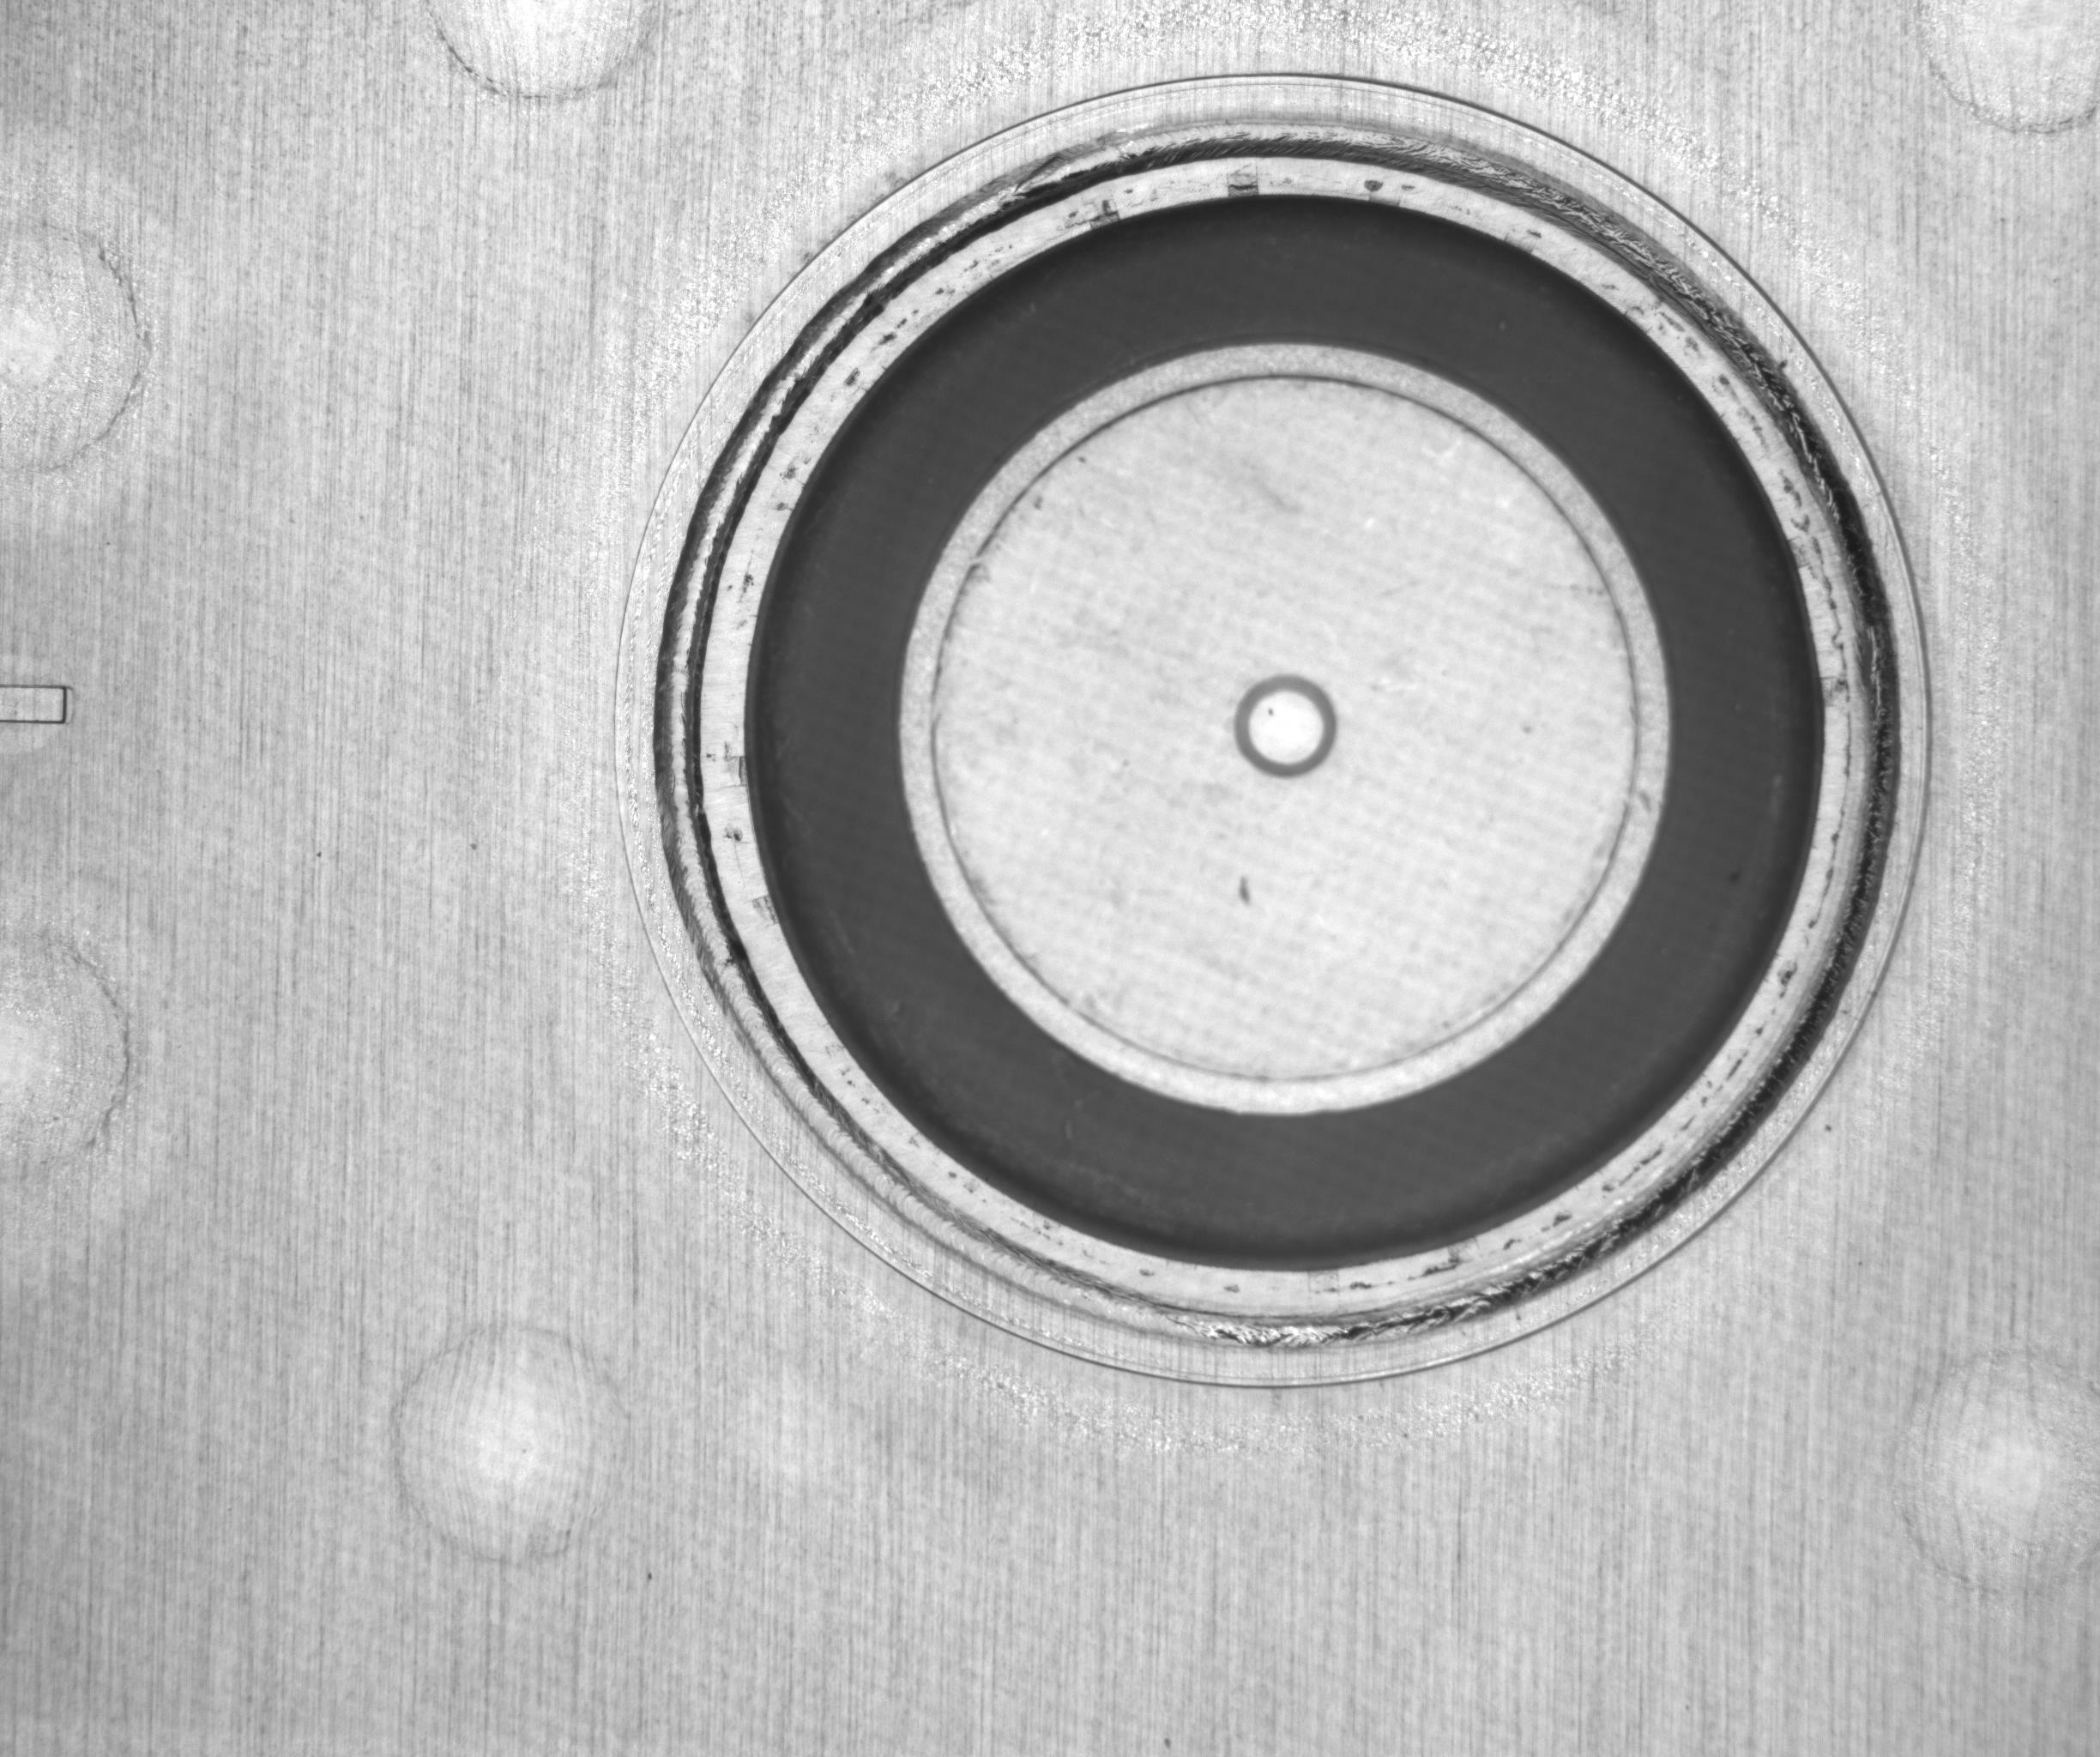weldtoohigh: (600, 49, 1948, 1382)
